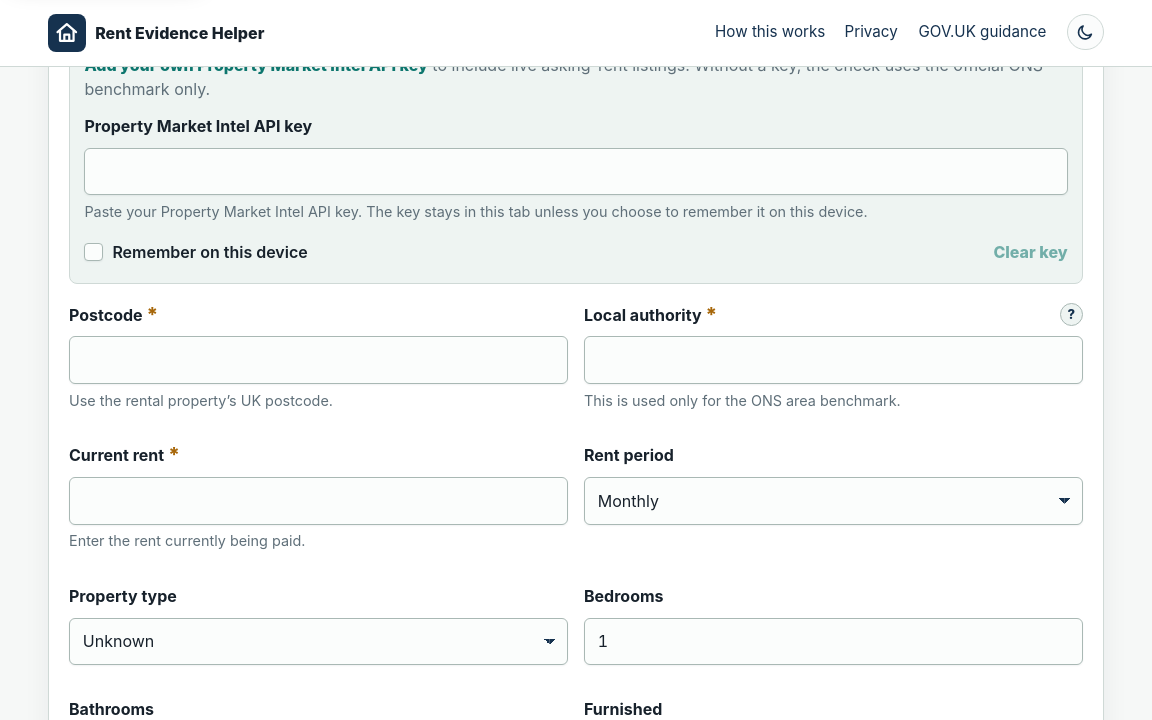
App › requires a manually selected Local Authority before running a check
(page scrolled)
Check: the search field labelled "Local authority *" is empty, box [584, 336, 1083, 384]
In the field labelled "Postcode *": {"x": 318, "y": 360} [69, 336, 568, 384], type "SW12 8AA"
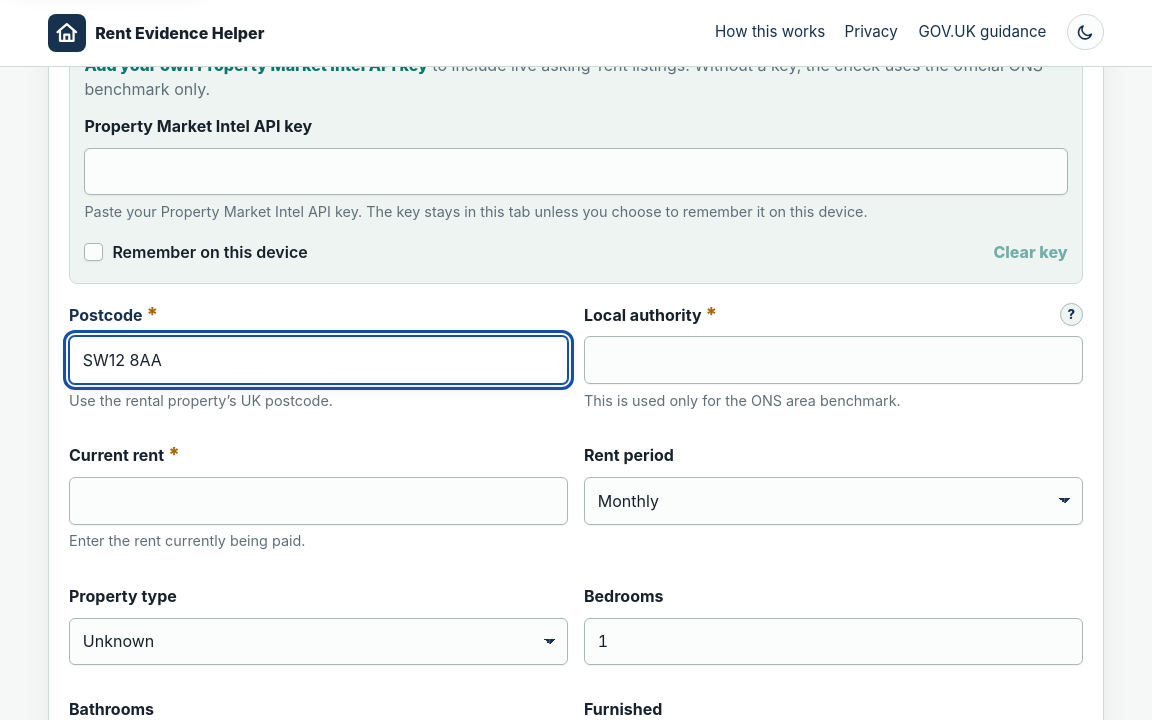
In the field labelled "Current rent *": {"x": 318, "y": 501} [69, 477, 568, 525], type "2450"
(page scrolled)
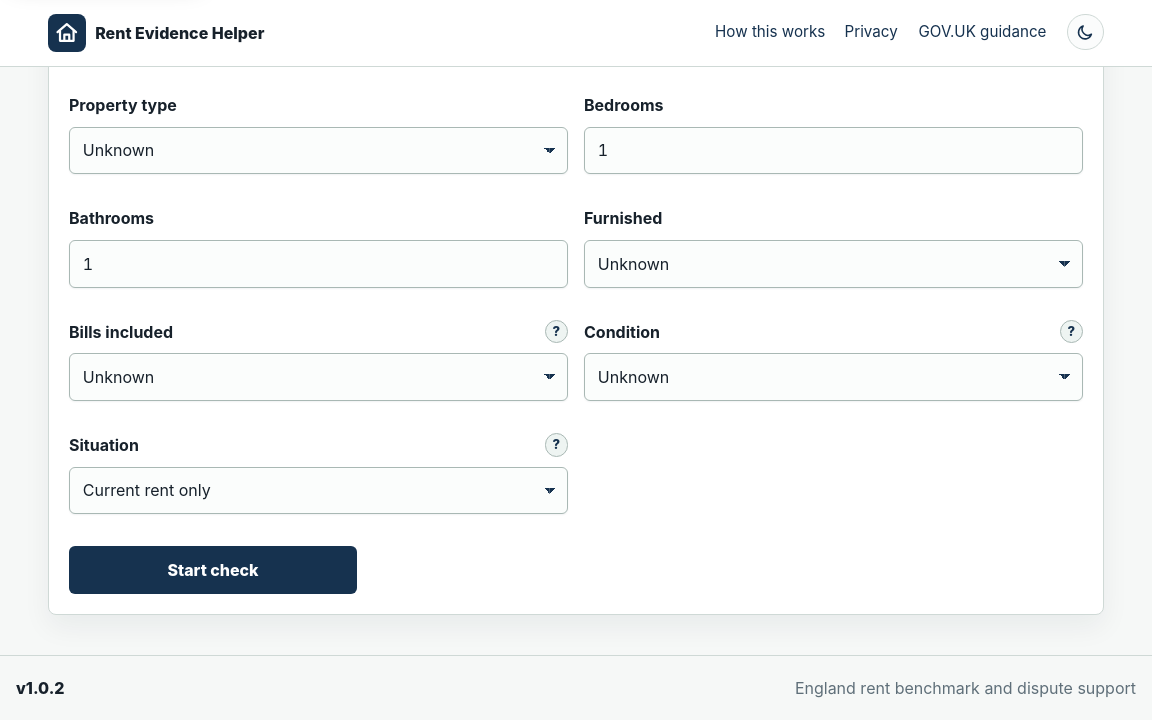
Click the button "Start check": {"x": 213, "y": 570} [69, 546, 357, 594]
(page scrolled)
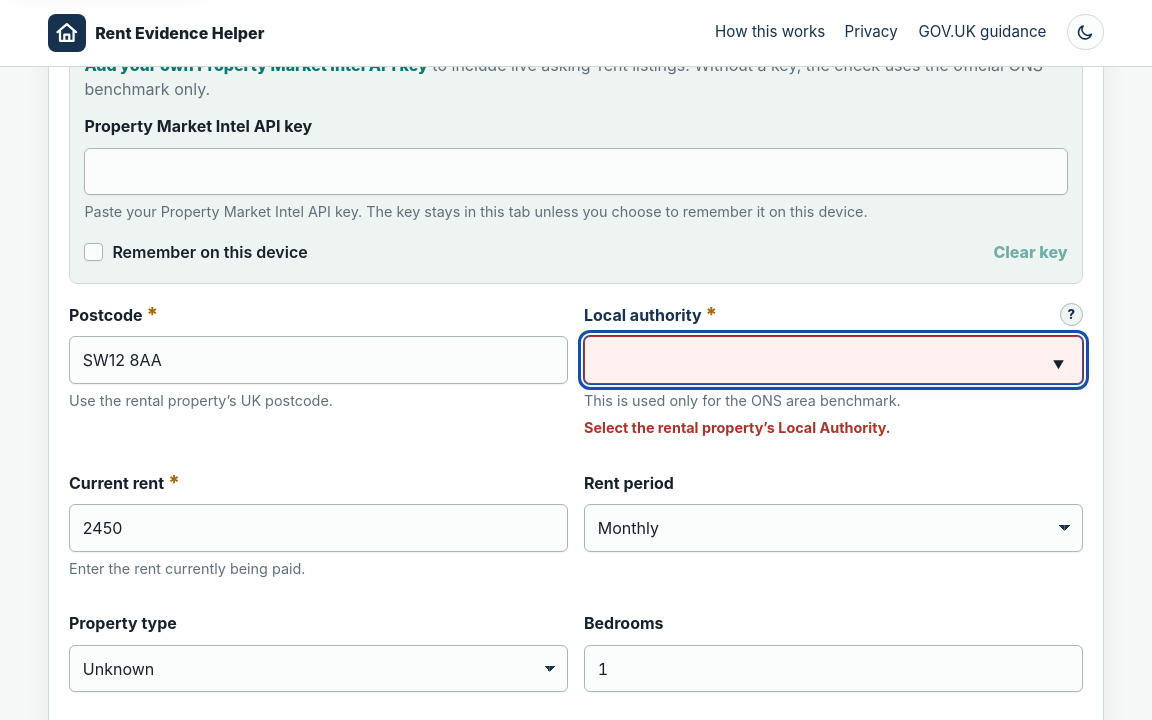
Check: the text "Select the rental property’s Local Authority." is shown, box [584, 419, 891, 436]
